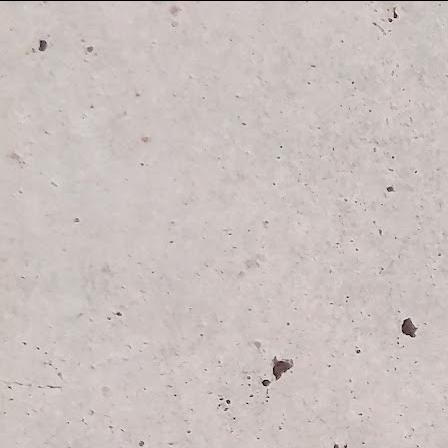spalling: (259, 344, 299, 383), (393, 312, 424, 343)
